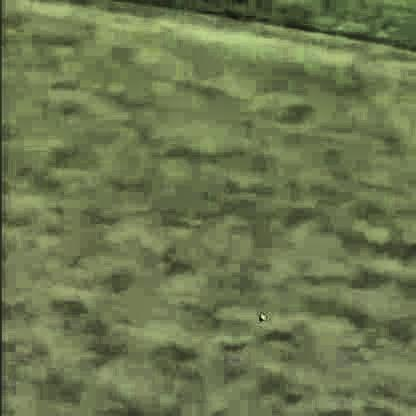golfball: (256, 312, 263, 317)
